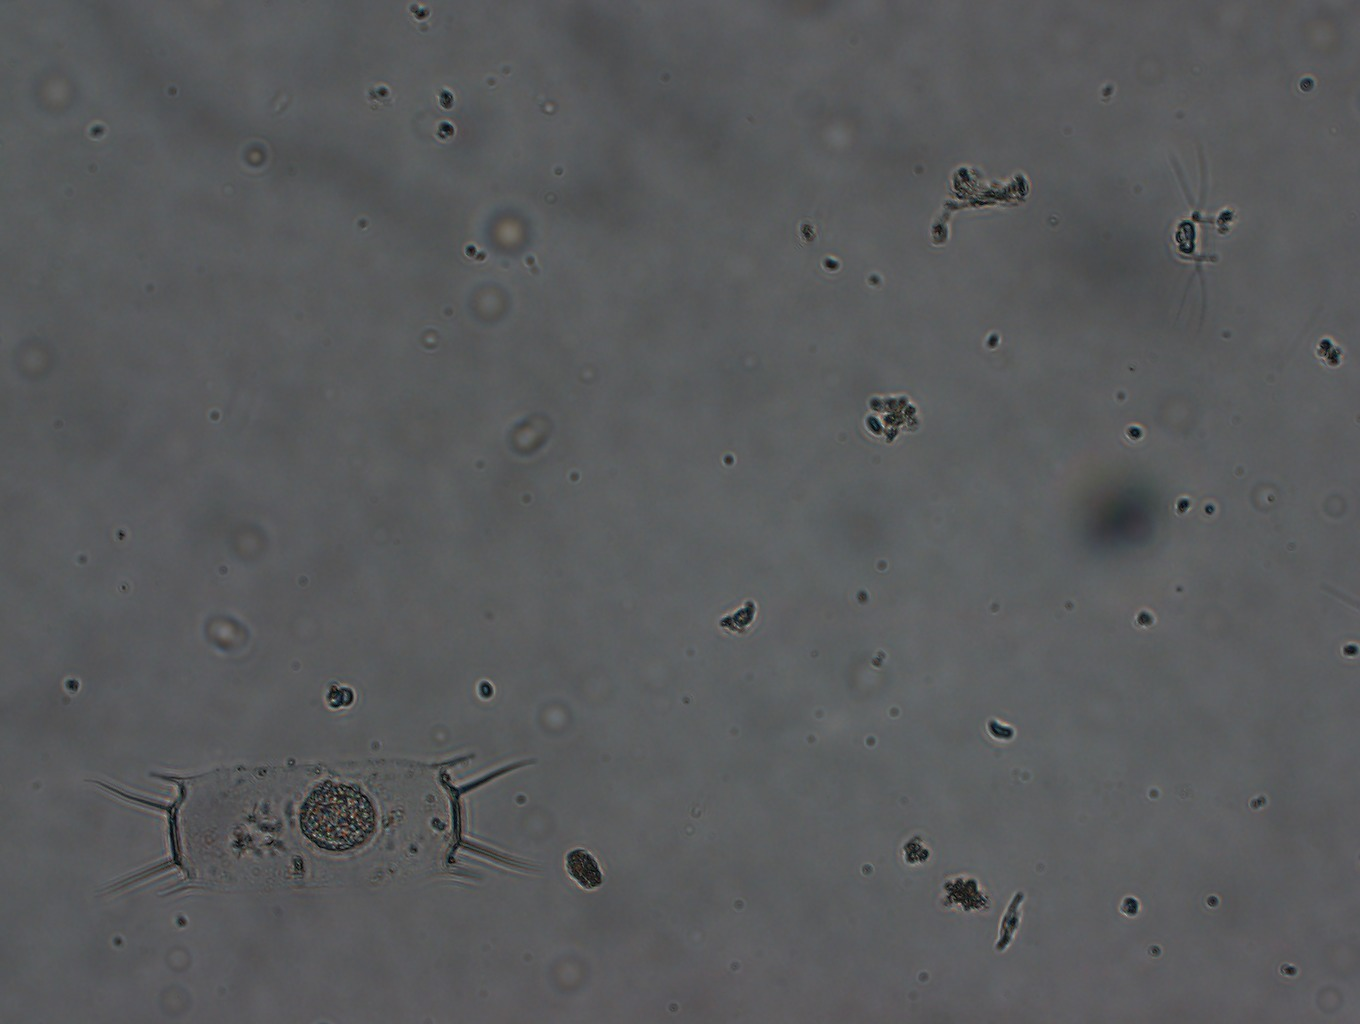biddulphia: (91, 721, 569, 902)
chaetoceros: (1149, 152, 1256, 346)
